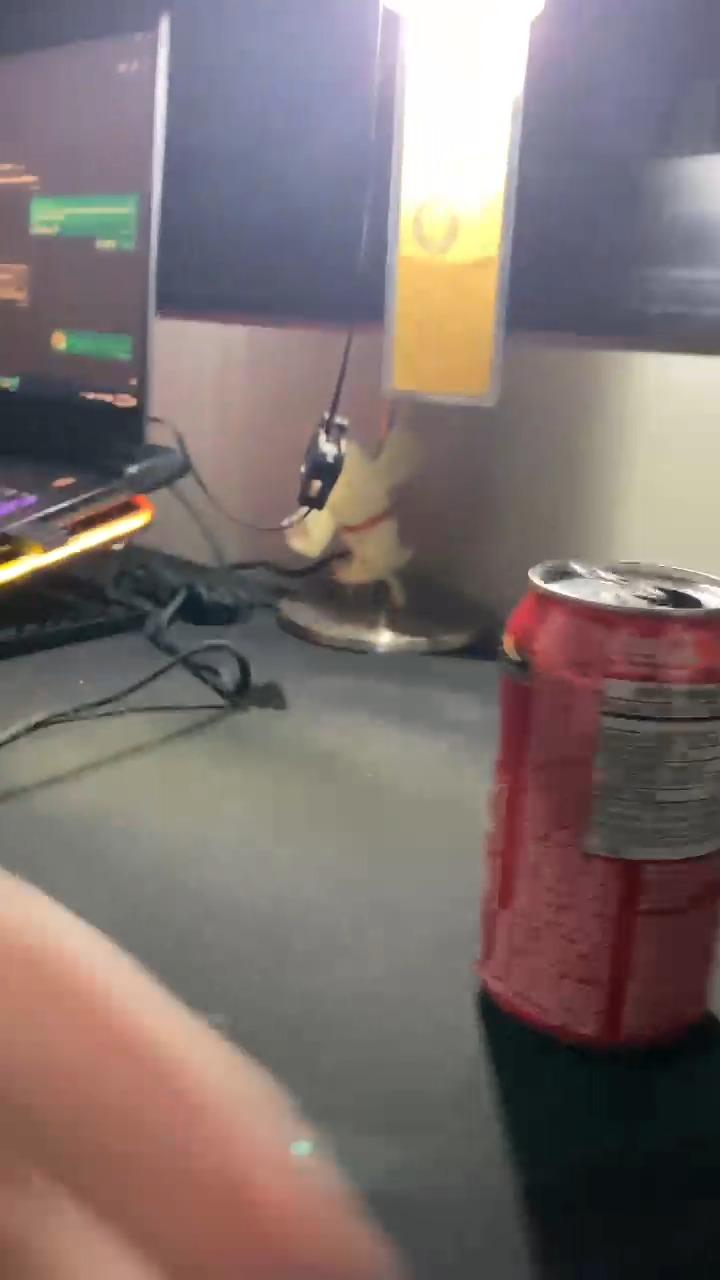coke: (474, 550, 720, 1039)
